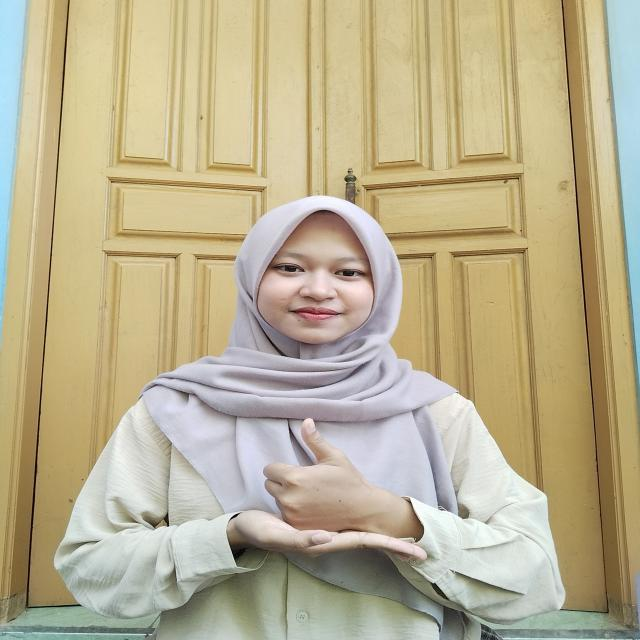cantik: (234, 404, 443, 586)
